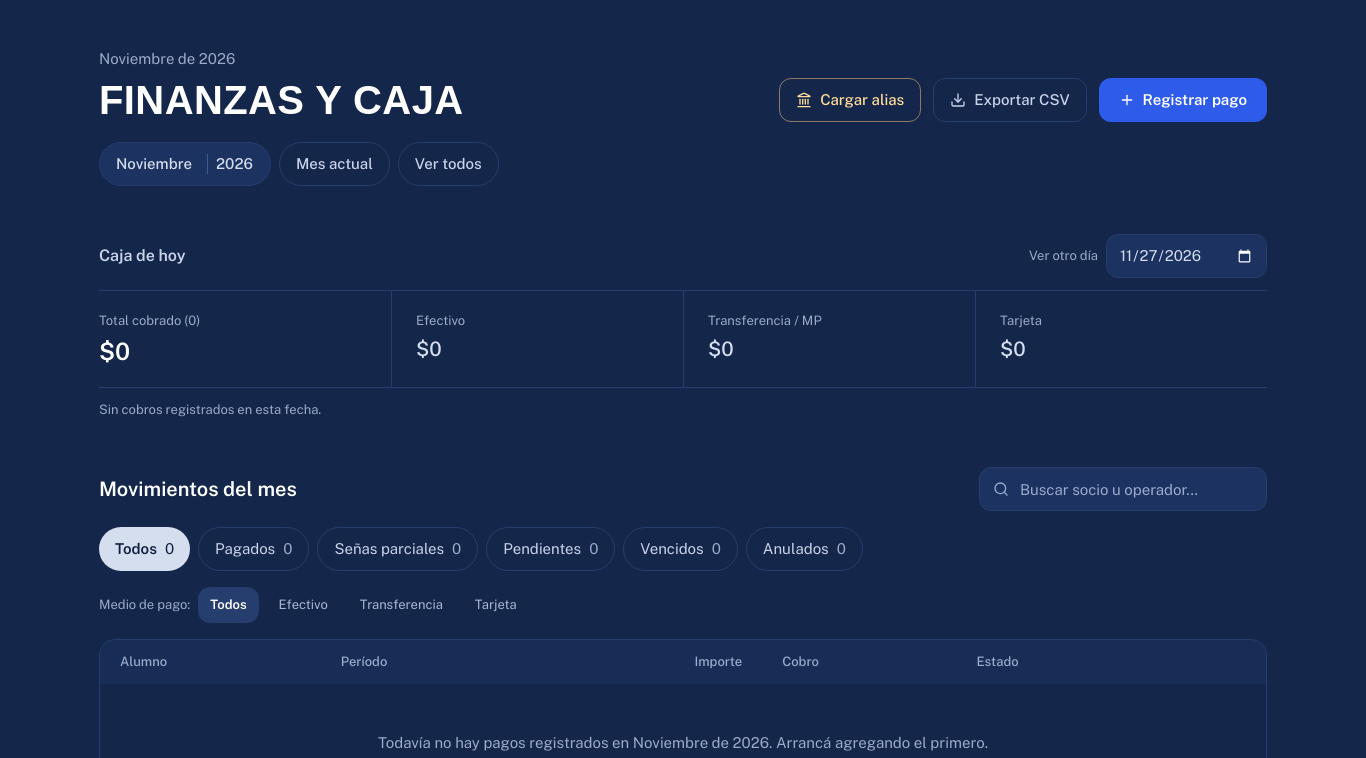
it: Finanzas del administrador › pide confirmación antes de cambiar el estado de un pago desde la tabla
Later steps or results of the test are not shown.
Click the button "Ver todos" at (448, 164), box [398, 142, 499, 186]
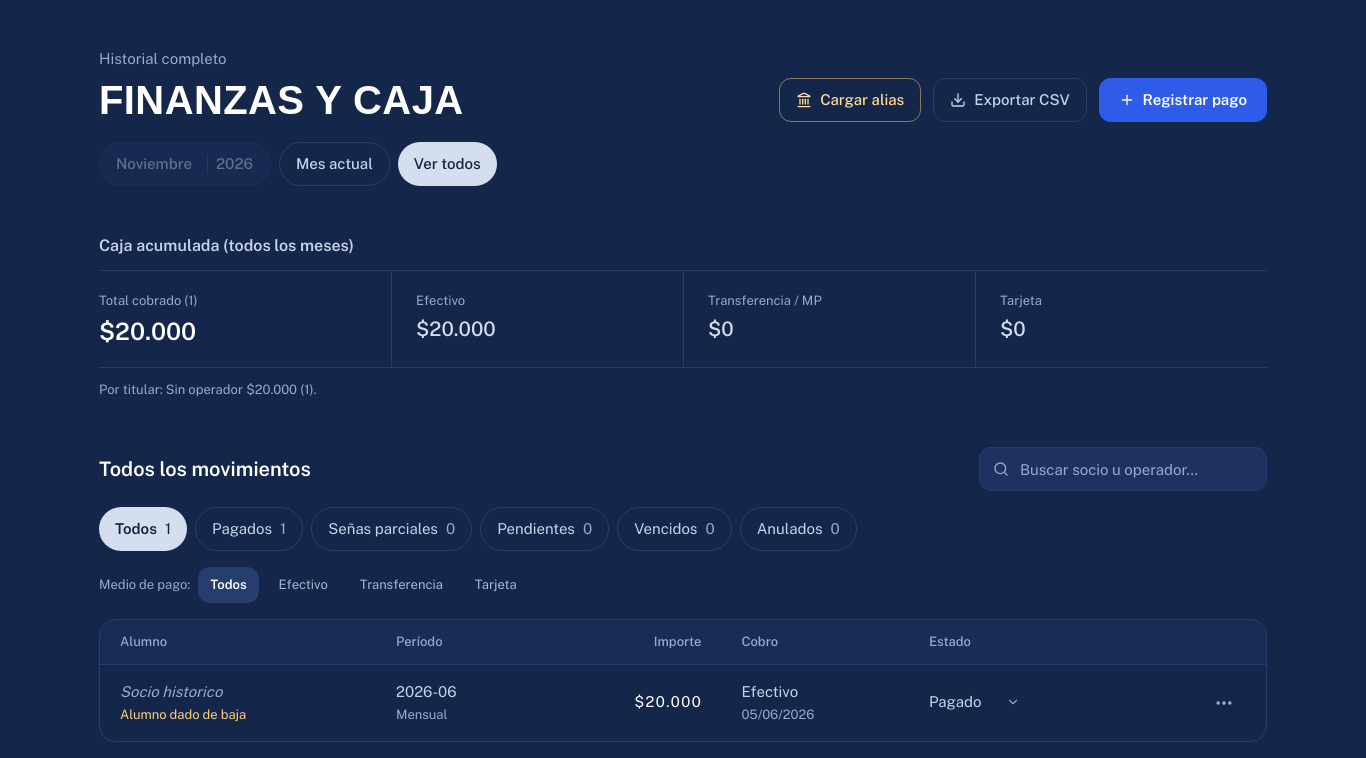
Select "Pendiente" in the dropdown named "Cambiar estado del pago" at (974, 702), box [929, 691, 1020, 713]
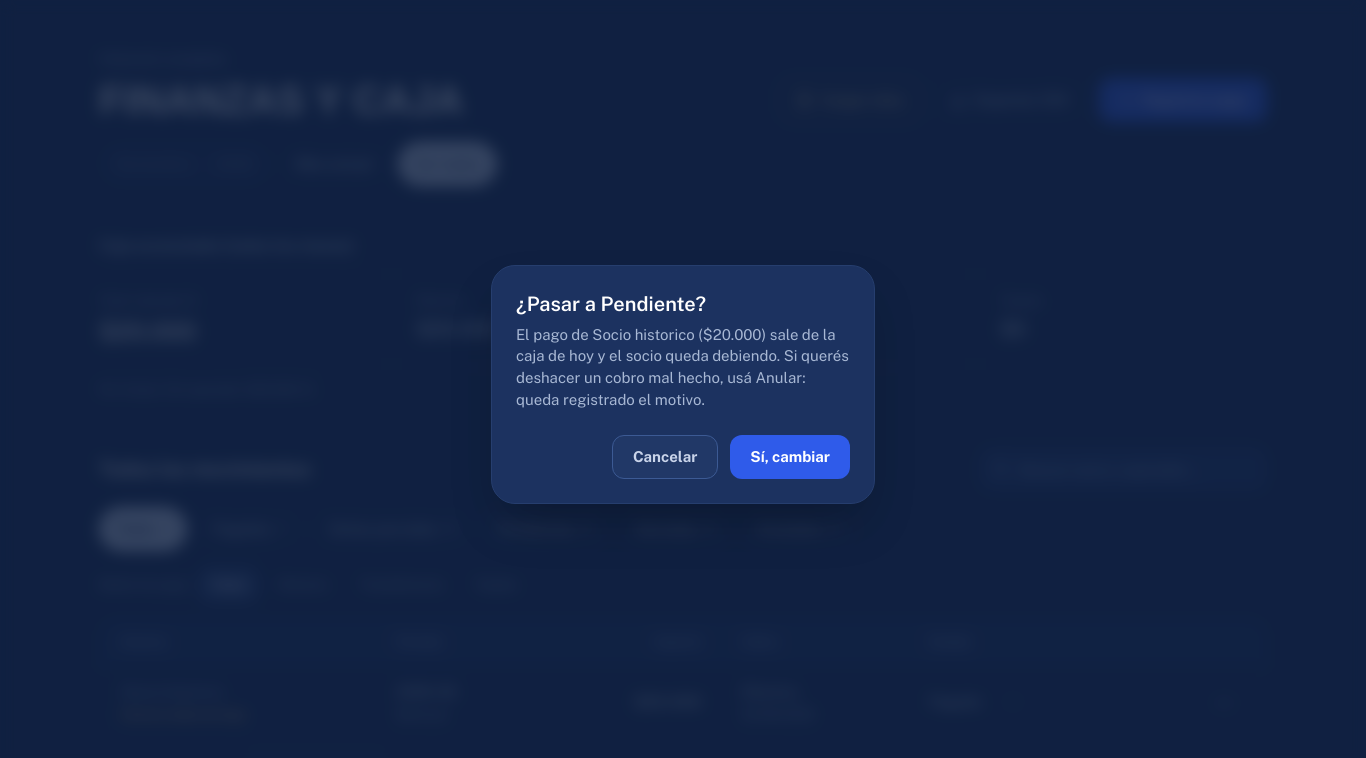
Now the text "sale de la caja de hoy" is shown, box [516, 326, 849, 408]
